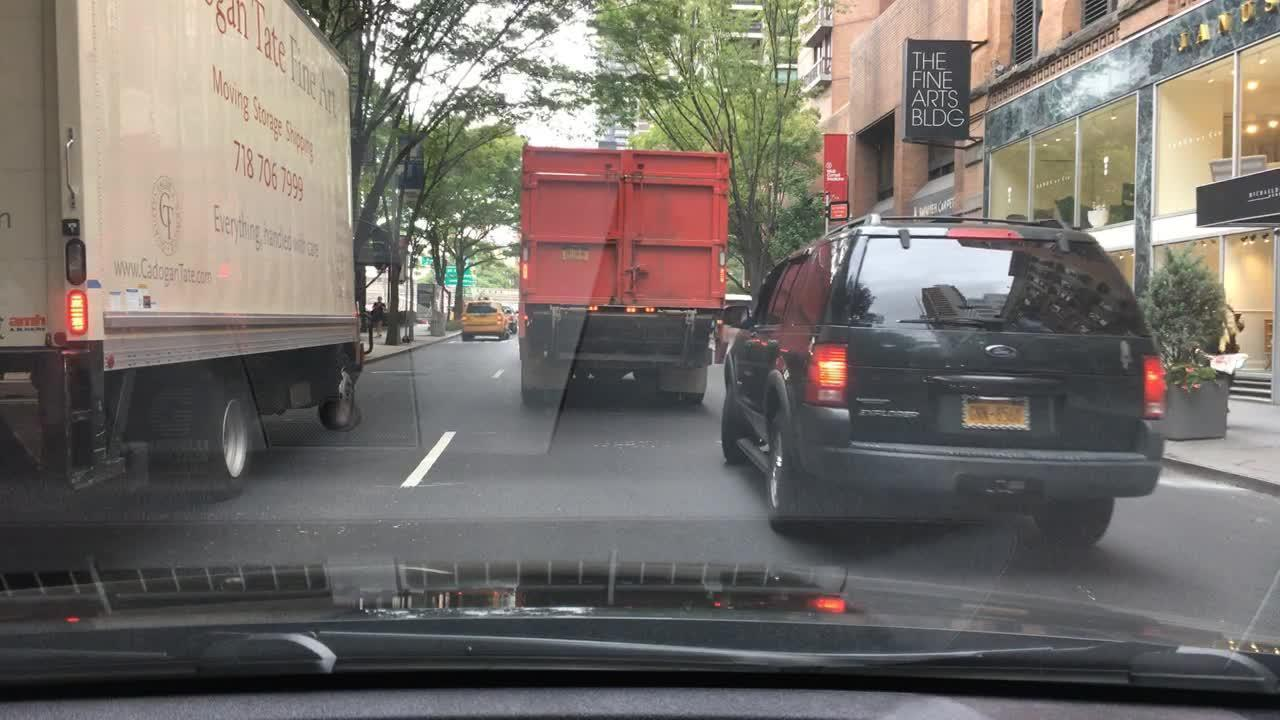ford: (982, 341, 1021, 364)
